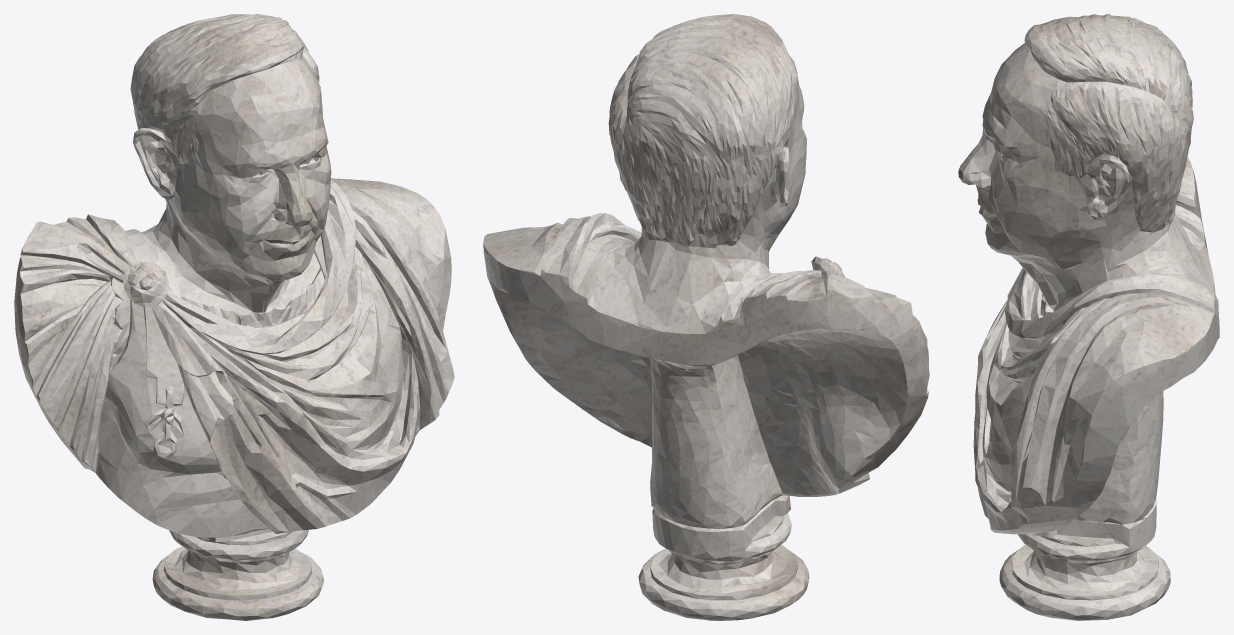
Rendered from mini-bb.glb.
3 renders of one model, left to right at view 1: azimuth 30°, elevation 25°; view 2: azimuth 150°, elevation 25°; view 3: azimuth 270°, elevation 25°, orthographic.
Parts seen in each view (by area): view 1: Bibi-Reduced; view 2: Bibi-Reduced; view 3: Bibi-Reduced.
Boxes of the visible parts, box(x1,y1,x2,y2) form: Bibi-Reduced: box(14, 14, 454, 620); Bibi-Reduced: box(483, 14, 929, 620); Bibi-Reduced: box(958, 14, 1219, 620).
Bounding box in the file's own units: 1.93 × 2.44 × 1.02.
Materials: 1 (1 with a texture image).
